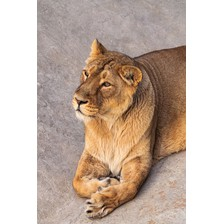lion: (71, 38, 186, 220)
